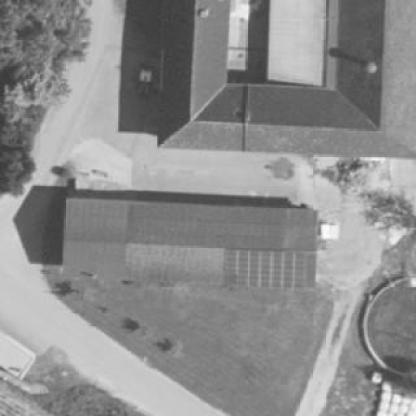solar-pv-panel: (225, 248, 305, 288)
